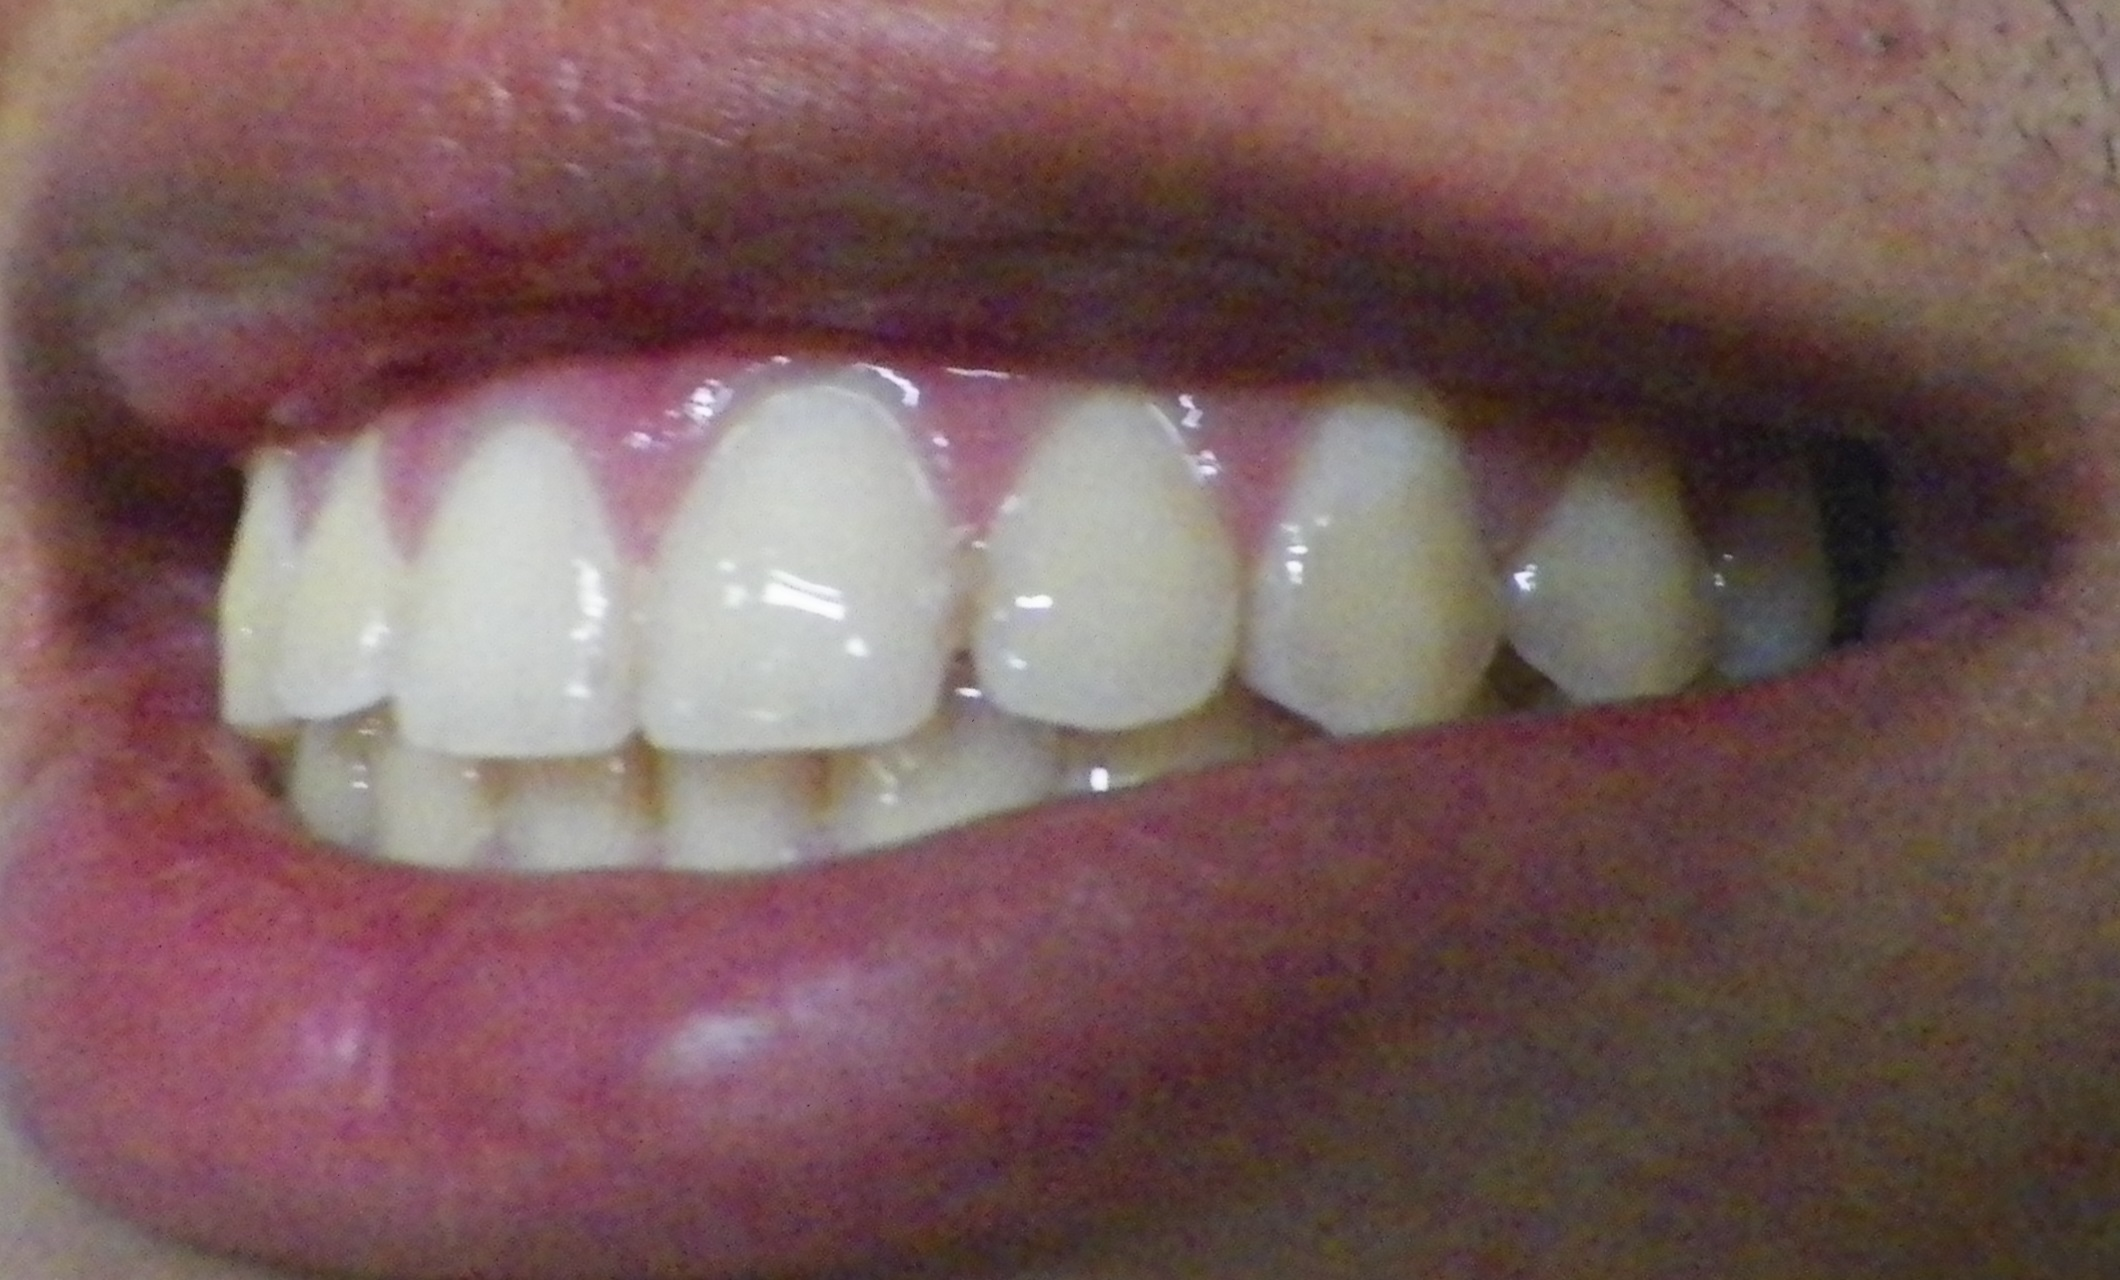boca: (215, 379, 2006, 862)
